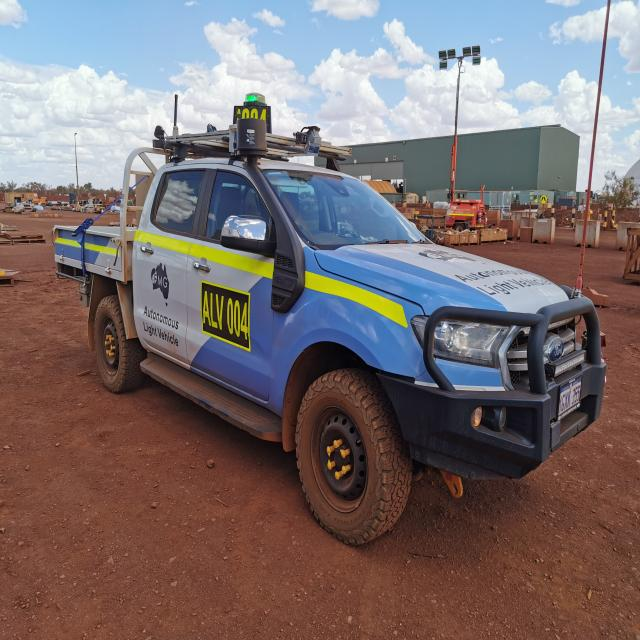light_vehicle: (46, 84, 622, 571)
